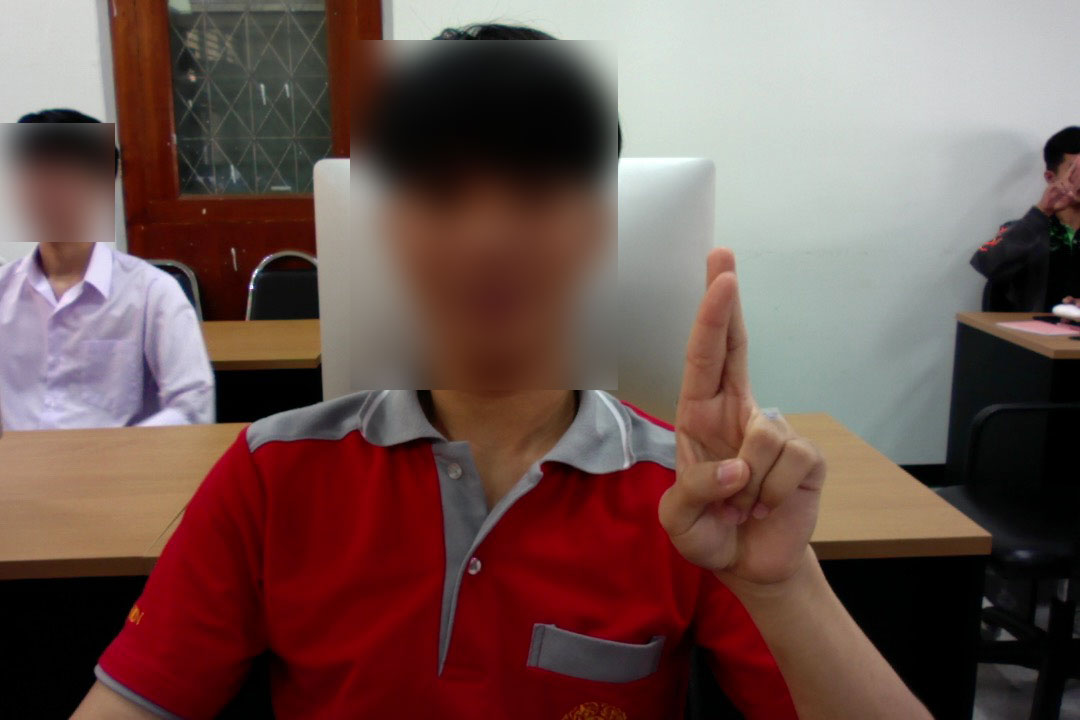rao: (642, 245, 832, 590)
